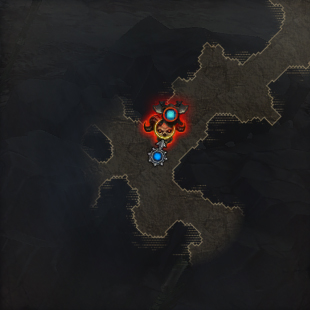Guardian: (144, 115, 186, 147)
